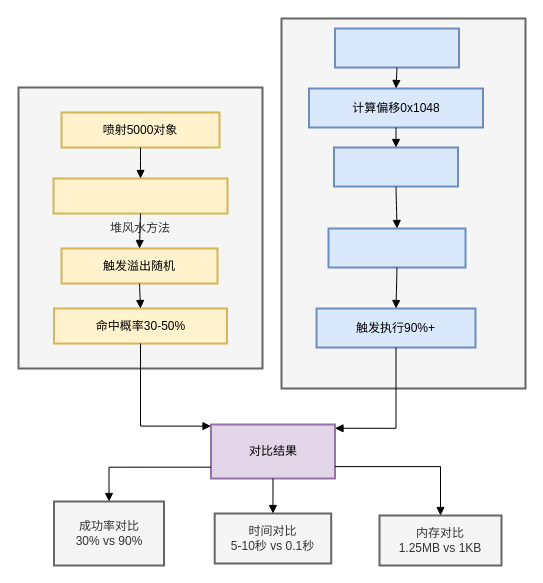
Image size: 543x583. Some labels were removed from this diagram. The shapes that lost their labels are listed below. From the top down, each one's box as (x1, y1, x2, y2) in pixels, then its label:
(334, 27, 460, 68): 获取基址
(332, 146, 458, 187): 备份原值
(52, 177, 228, 214): 创建空洞1666个
(280, 17, 526, 389): 精确攻击方法
(327, 227, 466, 268): 写入ROP链
